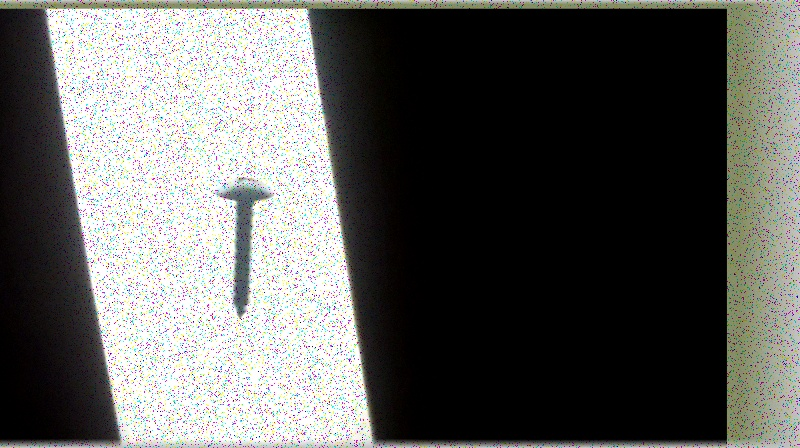S003: (208, 169, 279, 320)
